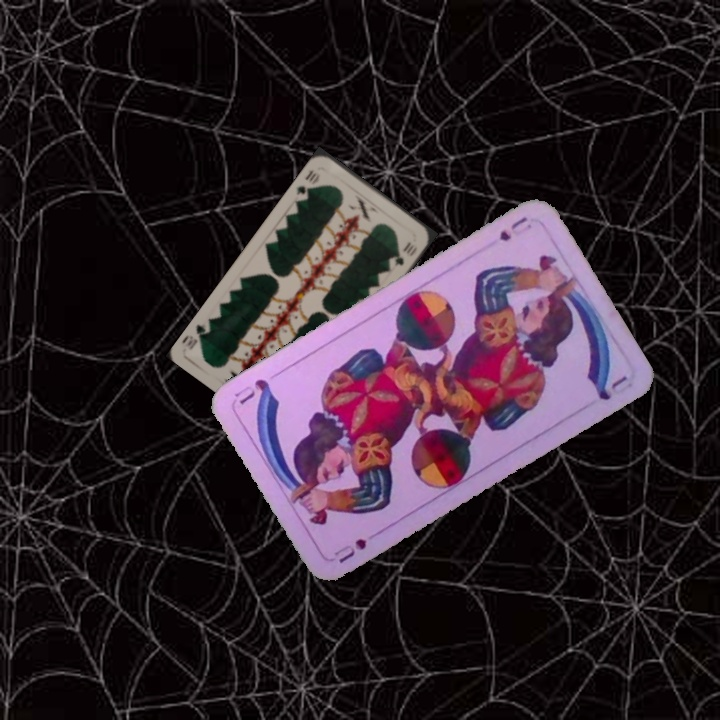G10: (292, 165, 323, 199)
SU: (330, 534, 369, 566), (495, 212, 531, 244)
